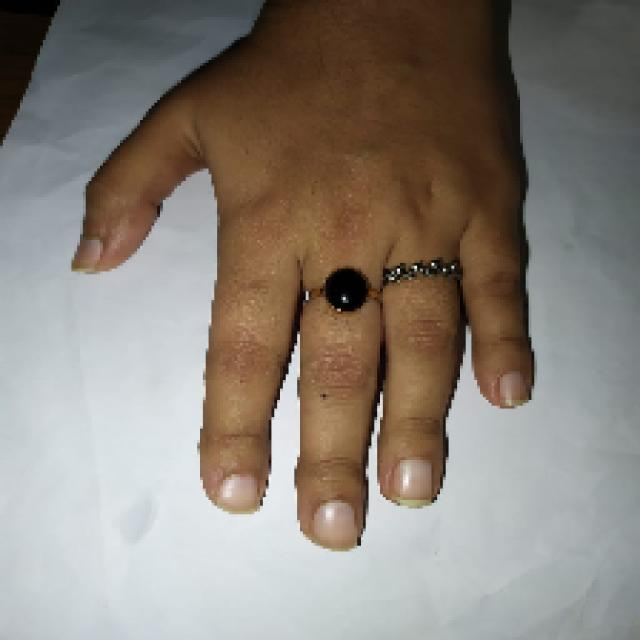Nail: (313, 500, 357, 549), (392, 459, 432, 506), (218, 474, 259, 512), (72, 236, 102, 272), (500, 371, 526, 407)
